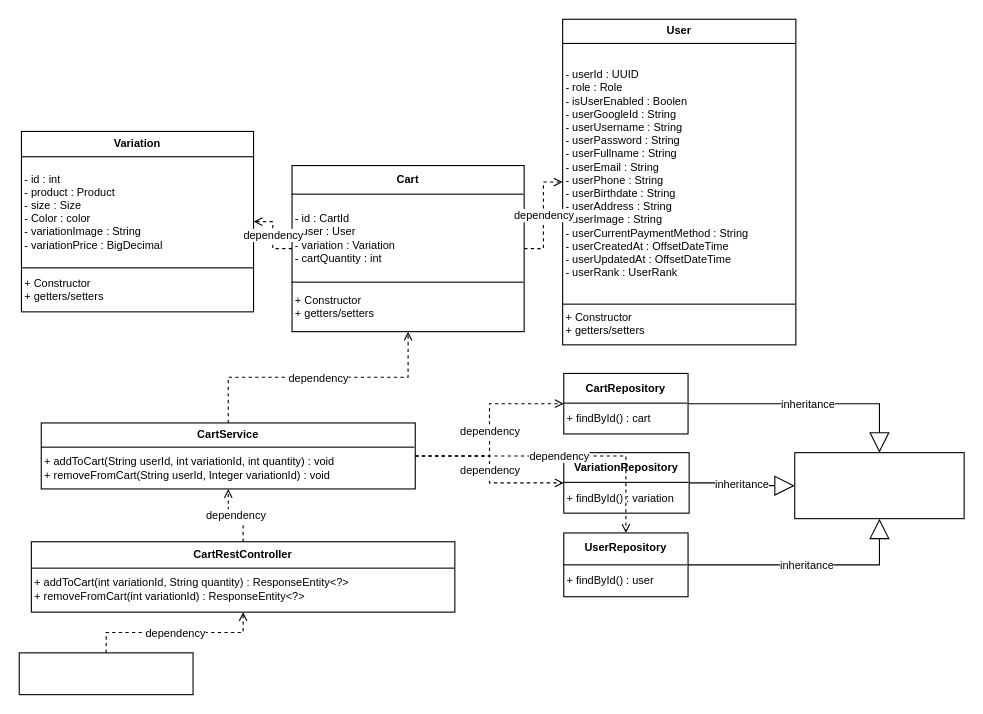
Image size: 983x714. Some labels were removed from this diagram. Here are the shapes that lost their labels. From the top down, the centre of each, then its label:
At [879,485]: "JpaRepository".
At [105,673]: "Shop View".
